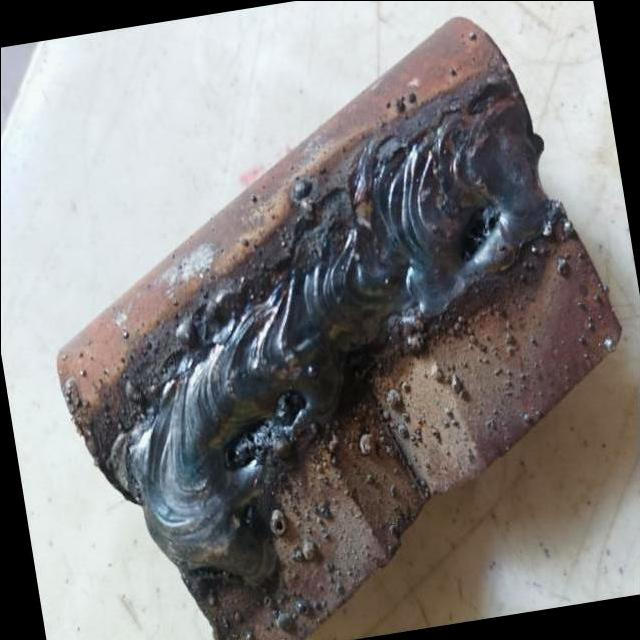defect: (221, 388, 303, 472), (457, 199, 504, 271)
